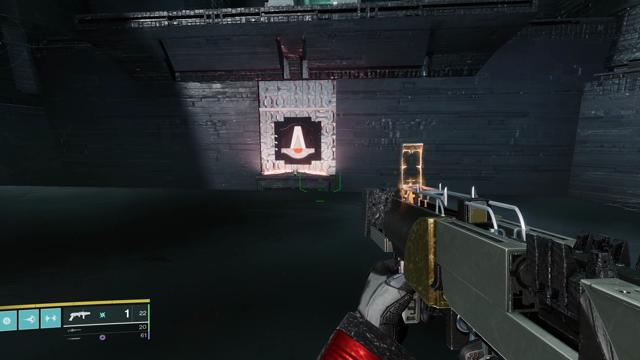enter: (281, 123, 316, 160)
